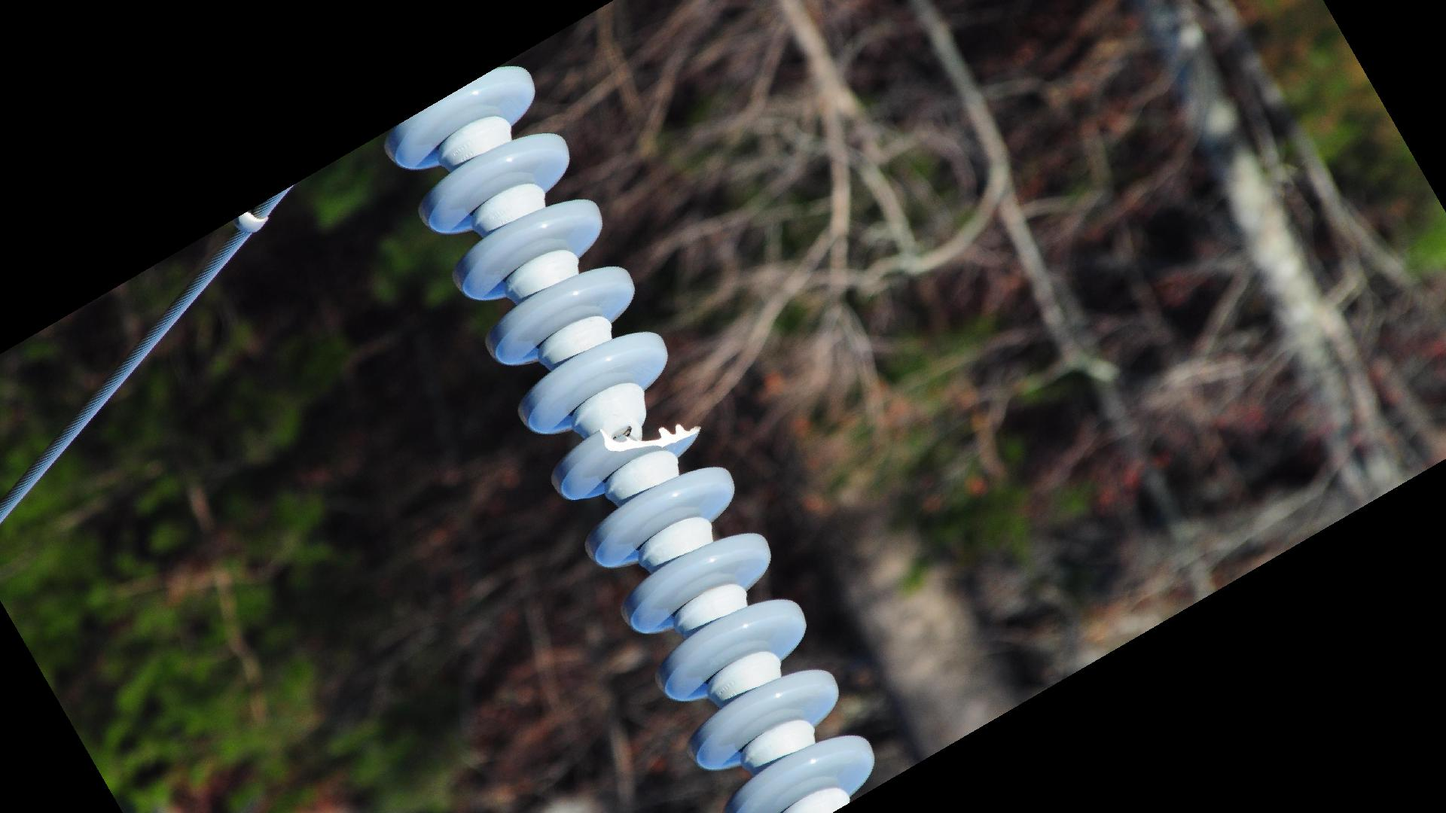insulator: (381, 59, 883, 813)
insulator_breakage: (594, 417, 704, 452)
